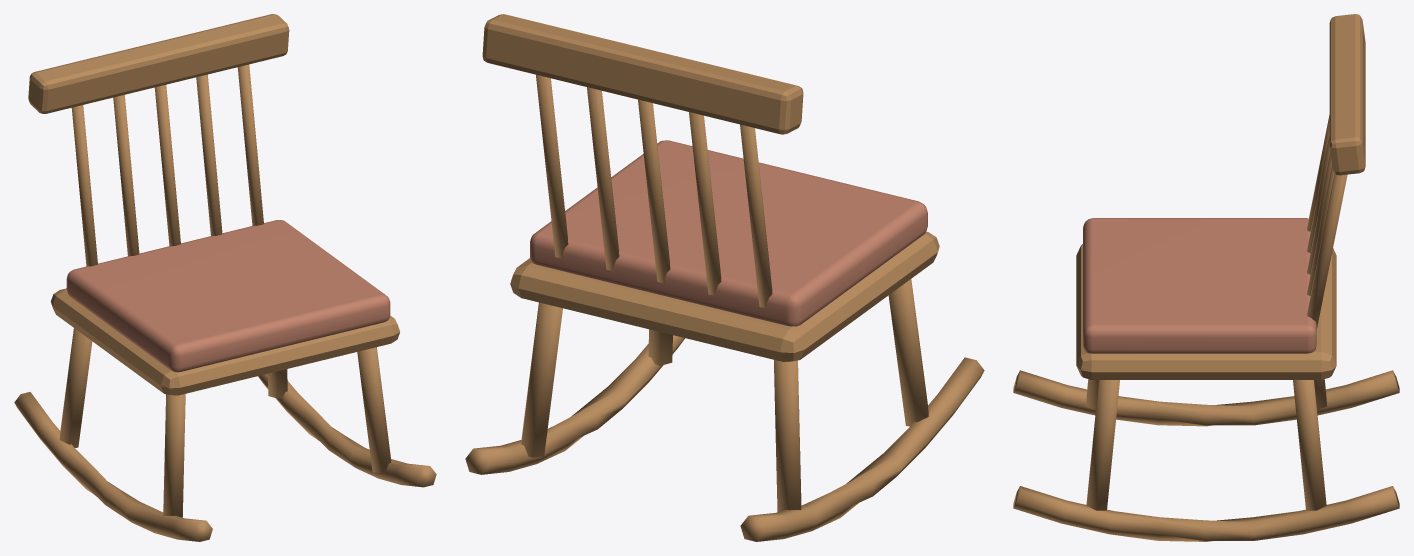
The model's file is rockingChair.glb.
3 views of the same model, side by side, from view 1: azimuth 30°, elevation 25°; view 2: azimuth 150°, elevation 25°; view 3: azimuth 270°, elevation 25° (orthographic). The views are drawn at different scales.
Visible parts, largest first — view 1: rockingChair_pad, rockingChair_top_rail, rockingChair_seat, rockingChair_rocker_-1, rockingChair_rocker_1, rockingChair_leg_1_-0.25, rockingChair_leg_-1_-0.25, rockingChair_leg_-1_0.25, rockingChair_spindle_0, rockingChair_spindle_1, rockingChair_spindle_3, rockingChair_spindle_4 (+2 smaller); view 2: rockingChair_pad, rockingChair_top_rail, rockingChair_seat, rockingChair_rocker_-1, rockingChair_rocker_1, rockingChair_leg_1_0.25, rockingChair_leg_-1_0.25, rockingChair_leg_-1_-0.25, rockingChair_spindle_2, rockingChair_spindle_0, rockingChair_spindle_1, rockingChair_spindle_4 (+2 smaller); view 3: rockingChair_pad, rockingChair_rocker_1, rockingChair_seat, rockingChair_rocker_-1, rockingChair_top_rail, rockingChair_leg_1_0.25, rockingChair_leg_1_-0.25, rockingChair_spindle_4, rockingChair_spindle_3, rockingChair_spindle_2, rockingChair_spindle_1, rockingChair_spindle_0.
Part boxes in pixels (bbox=[...]): rockingChair_pad: bbox=[66, 220, 390, 372]; rockingChair_top_rail: bbox=[28, 14, 289, 113]; rockingChair_seat: bbox=[51, 288, 399, 395]; rockingChair_rocker_-1: bbox=[14, 392, 212, 541]; rockingChair_rocker_1: bbox=[258, 374, 436, 487]; rockingChair_leg_1_-0.25: bbox=[357, 347, 391, 473]; rockingChair_leg_-1_-0.25: bbox=[163, 394, 185, 517]; rockingChair_leg_-1_0.25: bbox=[59, 328, 92, 447]; rockingChair_spindle_0: bbox=[71, 105, 97, 266]; rockingChair_spindle_1: bbox=[113, 95, 139, 256]; rockingChair_spindle_3: bbox=[196, 74, 222, 235]; rockingChair_spindle_4: bbox=[237, 64, 263, 225]; rockingChair_pad: bbox=[530, 140, 927, 326]; rockingChair_top_rail: bbox=[482, 14, 803, 134]; rockingChair_seat: bbox=[510, 231, 939, 361]; rockingChair_rocker_-1: bbox=[740, 357, 984, 541]; rockingChair_rocker_1: bbox=[465, 335, 684, 474]; rockingChair_leg_1_0.25: bbox=[521, 302, 562, 457]; rockingChair_leg_-1_0.25: bbox=[774, 360, 801, 512]; rockingChair_leg_-1_-0.25: bbox=[888, 279, 928, 426]; rockingChair_spindle_2: bbox=[638, 99, 670, 283]; rockingChair_spindle_0: bbox=[740, 124, 772, 308]; rockingChair_spindle_1: bbox=[689, 112, 721, 295]; rockingChair_spindle_4: bbox=[536, 75, 568, 258]; rockingChair_pad: bbox=[1083, 218, 1316, 353]; rockingChair_rocker_1: bbox=[1013, 486, 1399, 541]; rockingChair_seat: bbox=[1076, 244, 1336, 379]; rockingChair_rocker_-1: bbox=[1013, 370, 1399, 426]; rockingChair_top_rail: bbox=[1329, 14, 1365, 175]; rockingChair_leg_1_0.25: bbox=[1293, 380, 1326, 510]; rockingChair_leg_1_-0.25: bbox=[1086, 380, 1119, 510]; rockingChair_spindle_4: bbox=[1307, 174, 1347, 329]; rockingChair_spindle_3: bbox=[1307, 166, 1334, 295]; rockingChair_spindle_2: bbox=[1307, 152, 1332, 274]; rockingChair_spindle_1: bbox=[1307, 136, 1330, 253]; rockingChair_spindle_0: bbox=[1307, 115, 1329, 231].
Bounding box in the file's own units: 0.69 × 1.02 × 0.8753.
